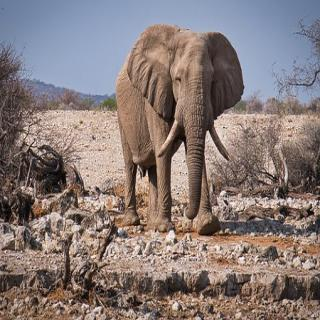Elephant: (112, 20, 248, 243)
